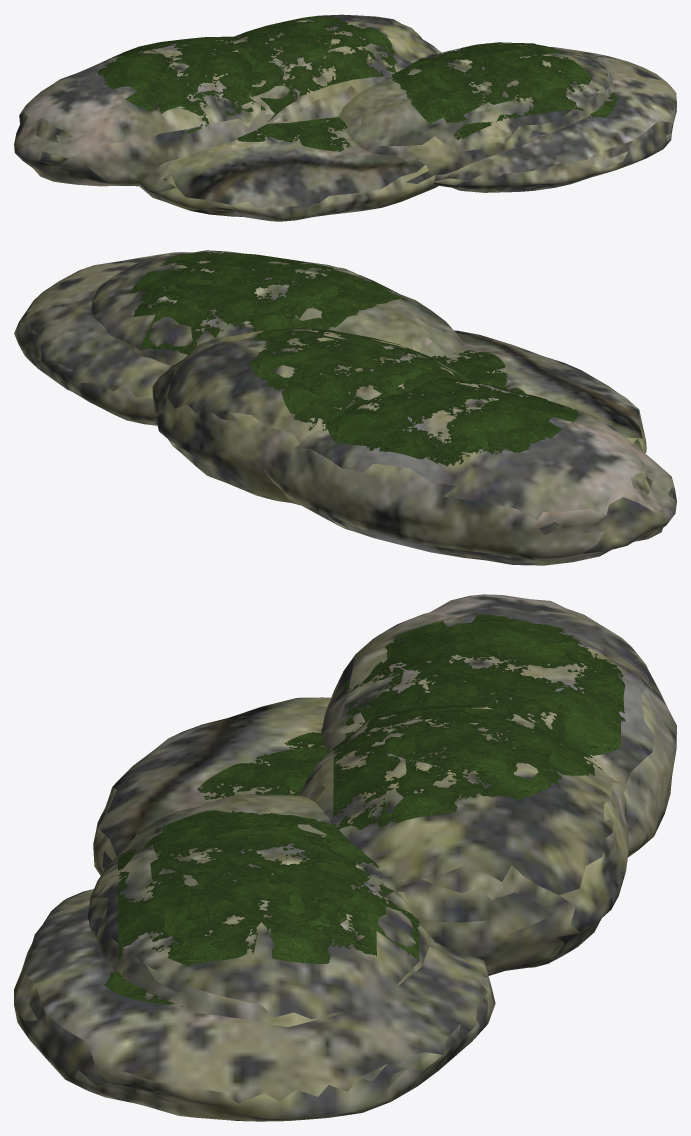
The model's file is v6_schist.glb.
3 renders of one model, top to bottom at view 1: azimuth 30°, elevation 25°; view 2: azimuth 150°, elevation 25°; view 3: azimuth 270°, elevation 25°, orthographic. The views are drawn at different scales.
Parts seen in each view (by area): view 1: sacred_weathered_stone_surface, v6_surface_moss_surface; view 2: sacred_weathered_stone_surface, v6_surface_moss_surface; view 3: sacred_weathered_stone_surface, v6_surface_moss_surface.
Part boxes in pixels (x1,y1,x2,y2): sacred_weathered_stone_surface: [14, 14, 676, 221]; v6_surface_moss_surface: [97, 16, 617, 151]; sacred_weathered_stone_surface: [14, 250, 676, 565]; v6_surface_moss_surface: [129, 251, 578, 466]; sacred_weathered_stone_surface: [14, 594, 676, 1121]; v6_surface_moss_surface: [104, 614, 625, 1006].
Size of the model in its own units: 0.8364 by 0.148 by 0.5037.
Materials: 2 (2 with a texture image).
